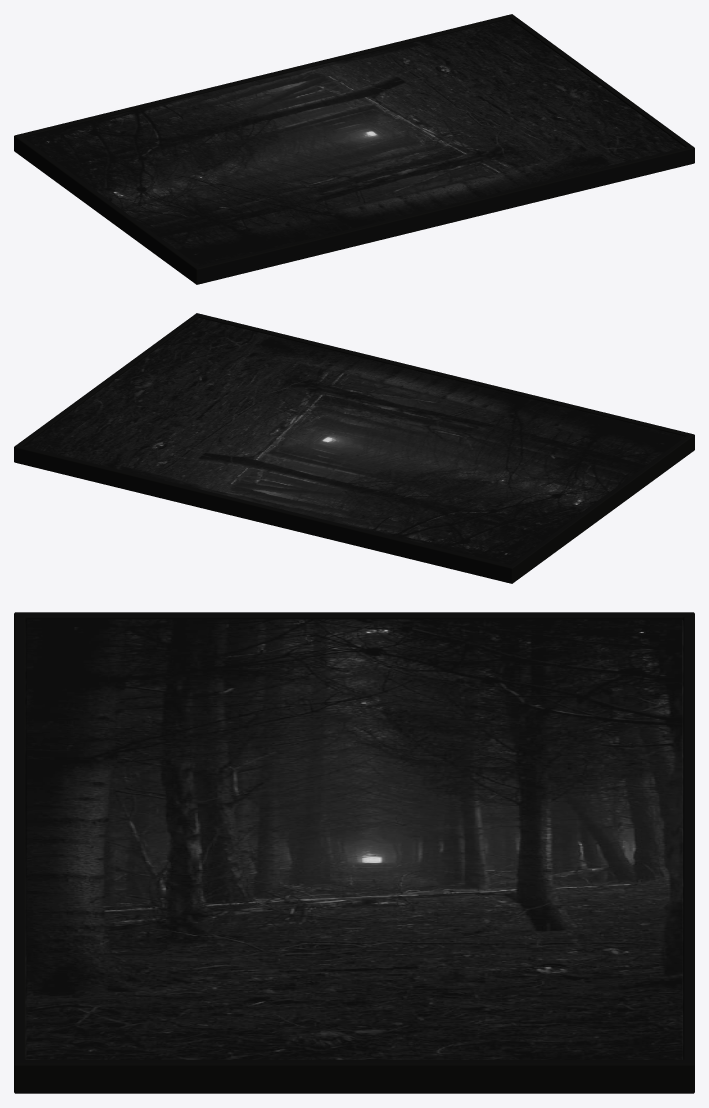
Rendered from lukisanzie1.fbx.
3 renders of one model, top to bottom at view 1: azimuth 30°, elevation 25°; view 2: azimuth 150°, elevation 25°; view 3: azimuth 270°, elevation 25°, orthographic. The views are drawn at different scales.
Parts seen in each view (by area): view 1: painting, frame; view 2: painting, frame; view 3: painting, frame.
Boxes of the visible parts, <box> form: painting: <box>23,19,684,265</box>; frame: <box>14,14,694,284</box>; painting: <box>24,318,685,564</box>; frame: <box>14,313,694,583</box>; painting: <box>25,619,683,1059</box>; frame: <box>14,612,694,1093</box>.
Bounding box in the file's own units: 136 × 4.3 × 86.4.
